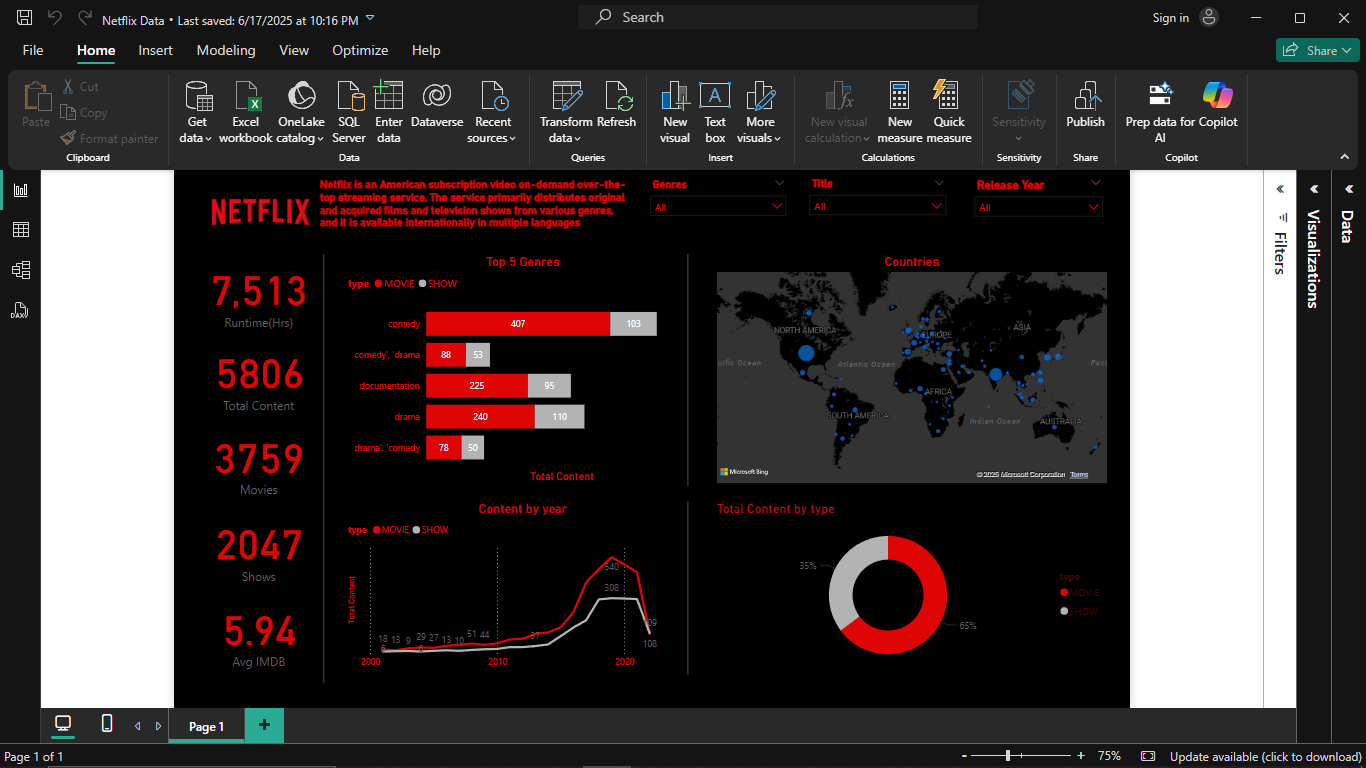

The page's visual inventory and layout, read from the dashboard file:
{"tool":"powerbi","page":{"name":"Page 1","canvas":[1280,720],"ordinal":0},"visuals":[{"type":"card","fields":{"Values":["credits.Runtime(Hrs)"]},"box":[16.4,112.3,194.5,105.5],"z":0},{"type":"card","fields":{"Values":["credits.Total Content"]},"box":[16.4,227.4,194.5,98.6],"z":1000},{"type":"card","fields":{"Values":["credits.Movies"]},"box":[16.4,335.6,194.5,106.8],"z":2000},{"type":"card","fields":{"Values":["credits.Shows"]},"box":[16.4,452.1,194.5,105.5],"z":3000},{"type":"card","fields":{"Values":["credits.Avg IMDB"]},"box":[16.4,563,194.5,112.3],"z":4000},{"type":"barChart","title":"Top 5 Genres","fields":{"Category":["titles.genres"],"Y":["All Measures.Total Content"],"Series":["titles.type"]},"box":[227.4,112.3,478.1,311],"z":5000},{"type":"lineChart","title":"Content by year","fields":{"Category":["titles.release_year"],"Y":["All Measures.Total Content"],"Series":["titles.type"]},"box":[227.4,442.5,478.1,232.9],"z":6000},{"type":"map","title":"Countries","fields":{"Category":["titles.production_countries"],"Size":["All Measures.Runtime(Hrs)"]},"box":[721.9,112.3,531.5,311],"z":7000},{"type":"donutChart","fields":{"Category":["titles.type"],"Y":["All Measures.Total Content"]},"box":[721.9,442.5,531.5,232.9],"z":8000},{"type":"image","box":[41.1,0,149.3,112.3],"z":9000},{"type":"slicer","fields":{"Values":["titles.release_year"]},"box":[1061.6,5.5,191.8,80.8],"z":10000},{"type":"slicer","fields":{"Values":["titles.title"]},"box":[841.1,5.5,202.7,80.8],"z":11000},{"type":"slicer","fields":{"Values":["titles.genres"]},"box":[626,5.5,204.1,79.5],"z":12000},{"type":"textbox","box":[190.4,5.5,424.7,80.8],"z":13000},{"type":"shape","box":[190.4,112.3,20.5,574],"z":13001},{"type":"shape","box":[668.5,112.3,37,311],"z":13002},{"type":"shape","box":[668.5,442.5,37,232.9],"z":13003}]}

Visuals, with their boxes on the page's 1280x720 design canvas (x1, y1, x2, y2). These are canvas units, not pixel positions in the 1366x768 screenshot, which may show the page scaled, cropped or inside an application window:
card - credits.Runtime(Hrs): 16, 112, 211, 218
card - credits.Total Content: 16, 227, 211, 326
card - credits.Movies: 16, 336, 211, 442
card - credits.Shows: 16, 452, 211, 558
card - credits.Avg IMDB: 16, 563, 211, 675
"Top 5 Genres" barChart: 227, 112, 706, 423
"Content by year" lineChart: 227, 442, 706, 675
"Countries" map: 722, 112, 1253, 423
donutChart - titles.type x All Measures.Total Content: 722, 442, 1253, 675
image: 41, 0, 190, 112
slicer - titles.release_year: 1062, 6, 1253, 86
slicer - titles.title: 841, 6, 1044, 86
slicer - titles.genres: 626, 6, 830, 85
textbox: 190, 6, 615, 86
shape: 190, 112, 211, 686
shape: 668, 112, 706, 423
shape: 668, 442, 706, 675
